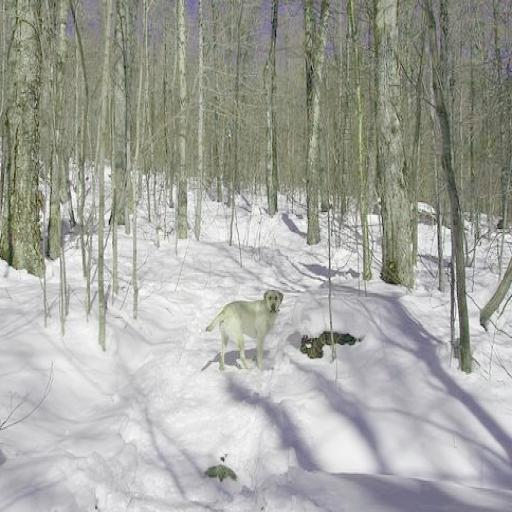dog_face: (262, 288, 285, 317)
